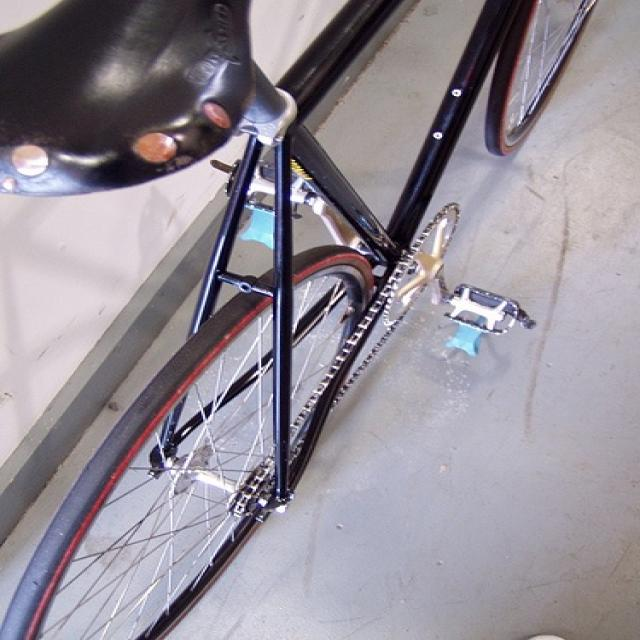bicycle: (3, 0, 597, 637)
